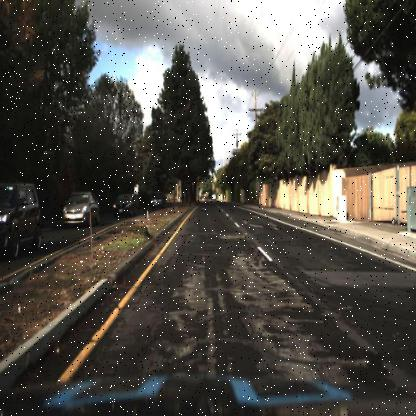car: (1, 181, 44, 262), (57, 184, 102, 233), (61, 193, 97, 229), (110, 184, 140, 219), (114, 194, 135, 218), (150, 190, 166, 212)
